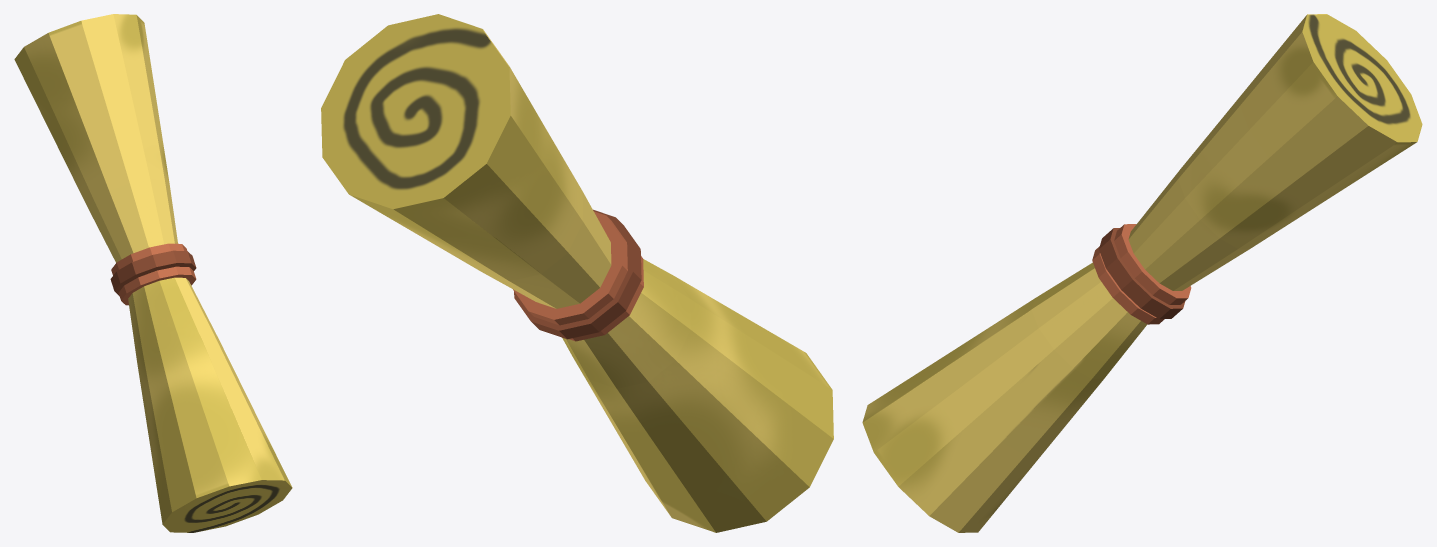
File: rolledmap.fbx
3 views of the same model, side by side, from view 1: azimuth 30°, elevation 25°; view 2: azimuth 150°, elevation 25°; view 3: azimuth 270°, elevation 25° (orthographic). The views are drawn at different scales.
Visible parts, largest first — view 1: Cylinder, Cylinder.001, Cylinder.002, Cylinder.003; view 2: Cylinder, Cylinder.003, Cylinder.001, Cylinder.002; view 3: Cylinder, Cylinder.001, Cylinder.003, Cylinder.002.
Part boxes in pixels (<box>): Cylinder: <box>14,14,292,532</box>; Cylinder.001: <box>110,250,196,295</box>; Cylinder.002: <box>118,266,196,305</box>; Cylinder.003: <box>111,243,187,275</box>; Cylinder: <box>321,14,833,532</box>; Cylinder.003: <box>513,211,627,325</box>; Cylinder.001: <box>514,209,641,339</box>; Cylinder.002: <box>569,256,643,341</box>; Cylinder: <box>862,14,1422,532</box>; Cylinder.001: <box>1099,228,1185,318</box>; Cylinder.003: <box>1114,224,1191,304</box>; Cylinder.002: <box>1092,246,1164,324</box>.
Size of the model in its own units: 82.71 by 226 by 223.
4 materials, 1 textured.
